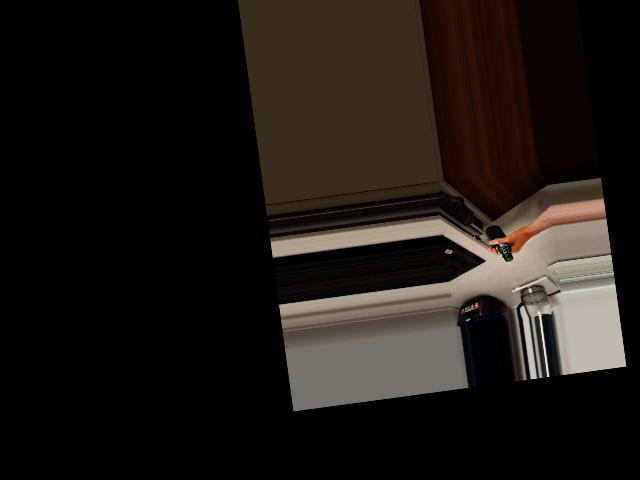beer: (484, 222, 513, 263)
